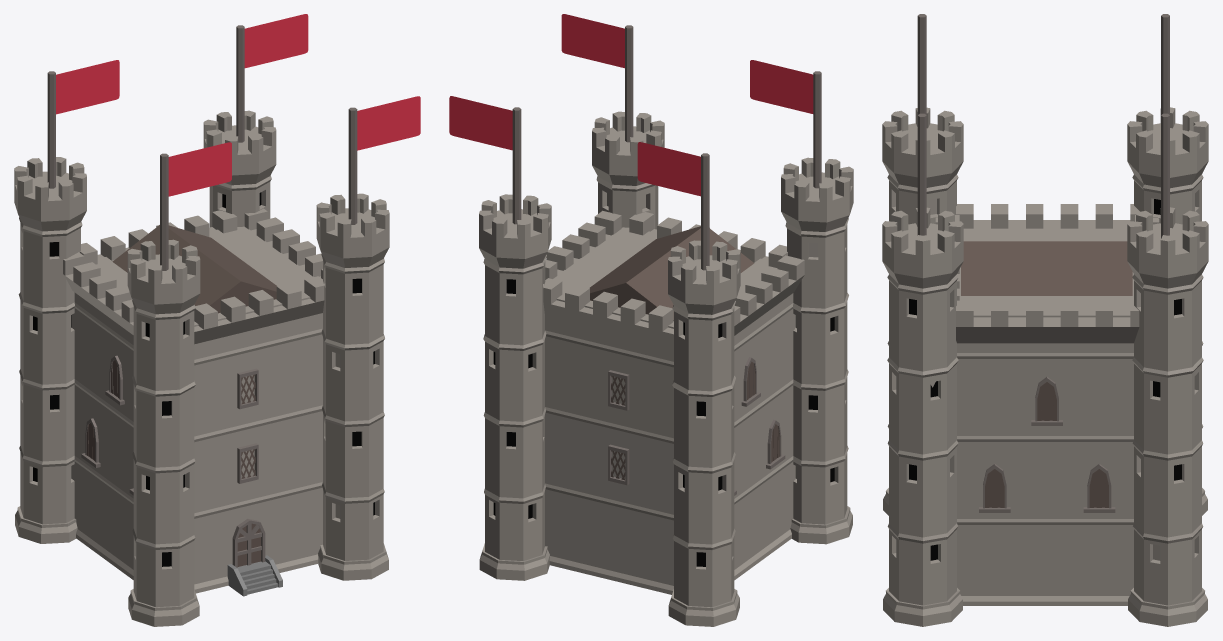
The model's file is 2_2 Castle.fbx.
The picture shows the model from 3 angles, left to right: view 1: azimuth 30°, elevation 25°; view 2: azimuth 150°, elevation 25°; view 3: azimuth 270°, elevation 25°; orthographic projection. The views are drawn at different scales.
Visible parts, largest first — view 1: Tower_R, castle_Body, Tower_R.002, Upperwall_castle, Roof_castle, Upperwall_castle.002, Flag, Flag.001, Flag.002, Flag.003, Upperwall_castle.001, upperwall_castle (+7 smaller); view 2: castle_Body, Tower_R.002, Tower_R, upperwall_castle, Roof_castle, Upperwall_castle.002, Flag, Flag.001, Flag.002, Flag.003, Upperwall_castle.001, Upperwall_castle (+6 smaller); view 3: castle_Body, Tower_R, Tower_R.002, Roof_castle, Upperwall_castle.001, Castle windows, Upperwall_castle.002, Flagpost.003, Flagpost.001, Flagpost, Flagpost.002.
Part boxes in pixels (<box>): Tower_R: <box>127,193,389,626</box>; castle_Body: <box>71,226,322,593</box>; Tower_R.002: <box>14,110,276,543</box>; Upperwall_castle: <box>194,276,324,344</box>; Roof_castle: <box>112,225,276,313</box>; Upperwall_castle.002: <box>63,252,133,334</box>; Flag: <box>244,14,308,68</box>; Flag.001: <box>168,142,231,196</box>; Flag.002: <box>357,96,420,150</box>; Flag.003: <box>56,60,119,114</box>; Upperwall_castle.001: <box>244,208,322,278</box>; upperwall_castle: <box>80,210,237,264</box>; castle_Body: <box>545,227,795,594</box>; Tower_R.002: <box>479,194,740,626</box>; Tower_R: <box>592,111,853,544</box>; upperwall_castle: <box>543,278,673,346</box>; Roof_castle: <box>590,226,754,320</box>; Upperwall_castle.002: <box>734,255,804,335</box>; Flag: <box>449,96,512,150</box>; Flag.001: <box>750,60,813,113</box>; Flag.002: <box>561,14,624,68</box>; Flag.003: <box>637,142,700,196</box>; Upperwall_castle.001: <box>545,210,621,279</box>; Upperwall_castle: <box>629,212,787,268</box>; castle_Body: <box>957,225,1133,605</box>; Tower_R: <box>882,107,963,626</box>; Tower_R.002: <box>1127,107,1208,626</box>; Roof_castle: <box>961,241,1132,295</box>; Upperwall_castle.001: <box>956,300,1139,343</box>; Castle windows: <box>979,377,1115,512</box>; Upperwall_castle.002: <box>956,204,1139,228</box>; Flagpost.003: <box>917,113,926,235</box>; Flagpost.001: <box>1161,113,1169,238</box>; Flagpost: <box>917,14,926,114</box>; Flagpost.002: <box>1161,14,1169,114</box>.
Size of the model in its own units: 1065 by 1609 by 963.
